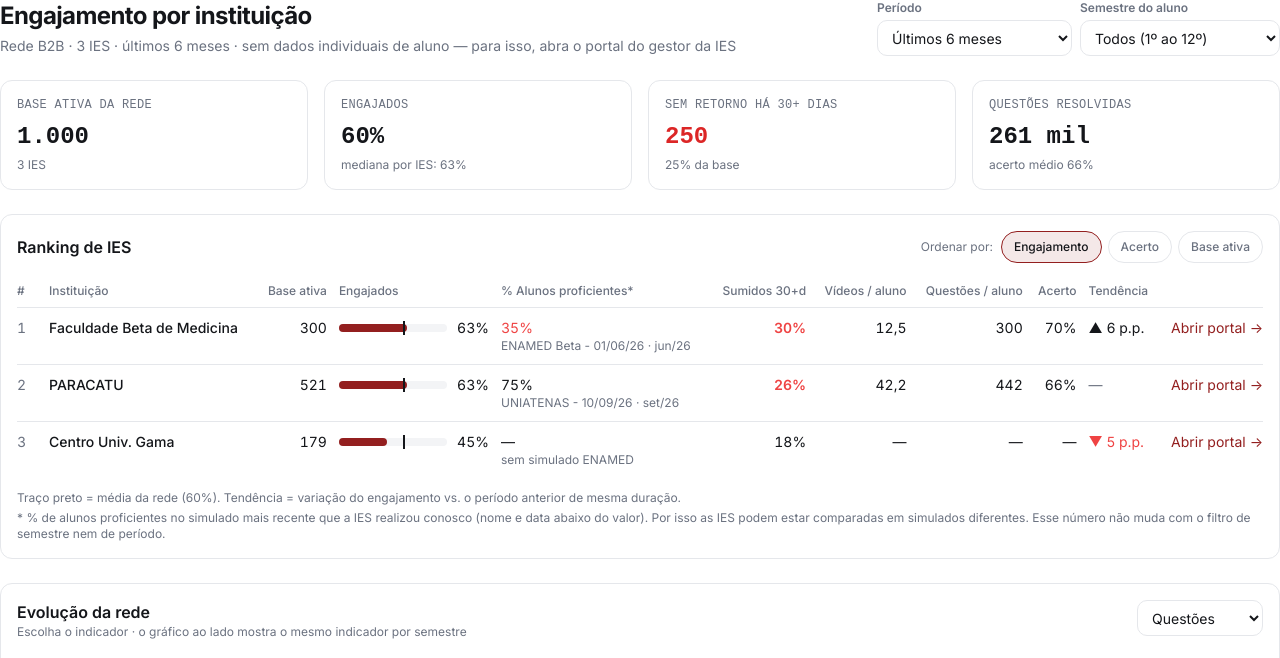
Test case: EngajamentoSanarflixPage (§12.5) › escolher um semestre grava `sem`, refaz a consulta e mostra a faixa
Select "8º semestre · clínico" in the dropdown labelled "Semestre do aluno" at (1180, 38), box left=1080, top=20, right=1279, bottom=56
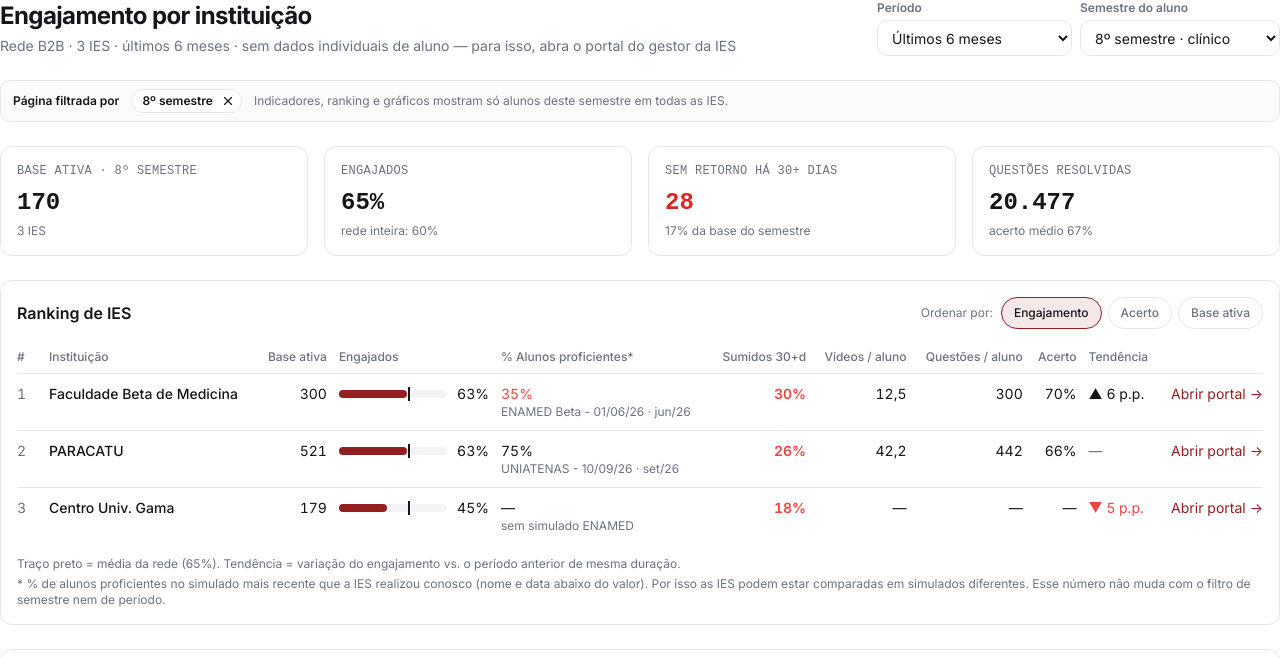
Result: the text "Página filtrada por" is shown at left=13, top=93, right=119, bottom=109
Result: the text "8º semestre" is shown at left=131, top=89, right=242, bottom=113
Result: the text "Indicadores, ranking e gráficos mostram só alunos deste semestre em todas as IES." is shown at left=254, top=93, right=728, bottom=108
